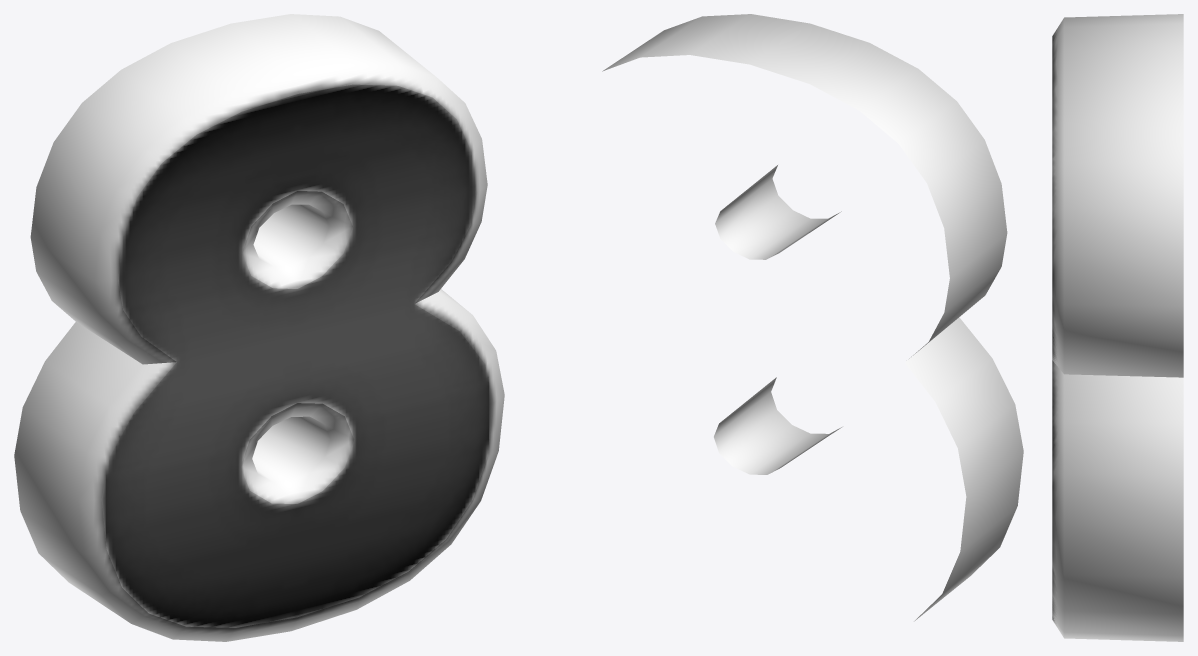
The model's file is bbl_score_model__score_8a.glb.
The picture shows the model from 3 angles, left to right: view 1: azimuth 30°, elevation 25°; view 2: azimuth 150°, elevation 25°; view 3: azimuth 270°, elevation 25°; orthographic projection.
Parts seen in each view (by area): view 1: polygon1, polygon0; view 2: polygon0; view 3: polygon0.
Part boxes in pixels (bbox=[...]): polygon1: bbox=[101, 84, 493, 627]; polygon0: bbox=[14, 14, 504, 641]; polygon0: bbox=[602, 14, 1023, 621]; polygon0: bbox=[1052, 14, 1183, 641].
Size of the model in its own units: 4.12 by 5.16 by 1.1.
2 materials, 2 textured.
